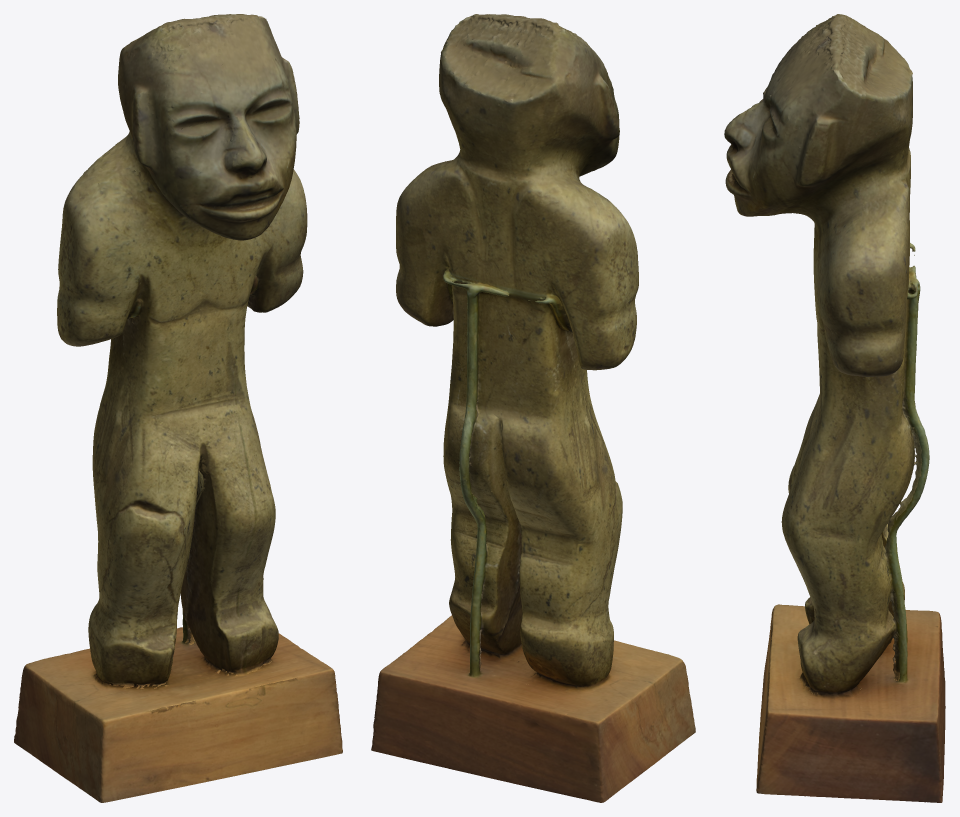
File: obj_polished_green_stone_olmec_m_5df0e7.glb
The picture shows the model from 3 angles, left to right: view 1: azimuth 30°, elevation 25°; view 2: azimuth 150°, elevation 25°; view 3: azimuth 270°, elevation 25°; orthographic projection. The views are drawn at different scales.
Visible parts, largest first — view 1: obj_polished_green_stone_olmec_m_5df0e7; view 2: obj_polished_green_stone_olmec_m_5df0e7; view 3: obj_polished_green_stone_olmec_m_5df0e7.
Part boxes in pixels (x1,y1,x2,y2): obj_polished_green_stone_olmec_m_5df0e7: (14, 14, 342, 802); obj_polished_green_stone_olmec_m_5df0e7: (371, 14, 695, 802); obj_polished_green_stone_olmec_m_5df0e7: (724, 14, 945, 802).
Size of the model in its own units: 0.0704 by 0.2 by 0.0554.
Materials: 1 (1 with a texture image).
